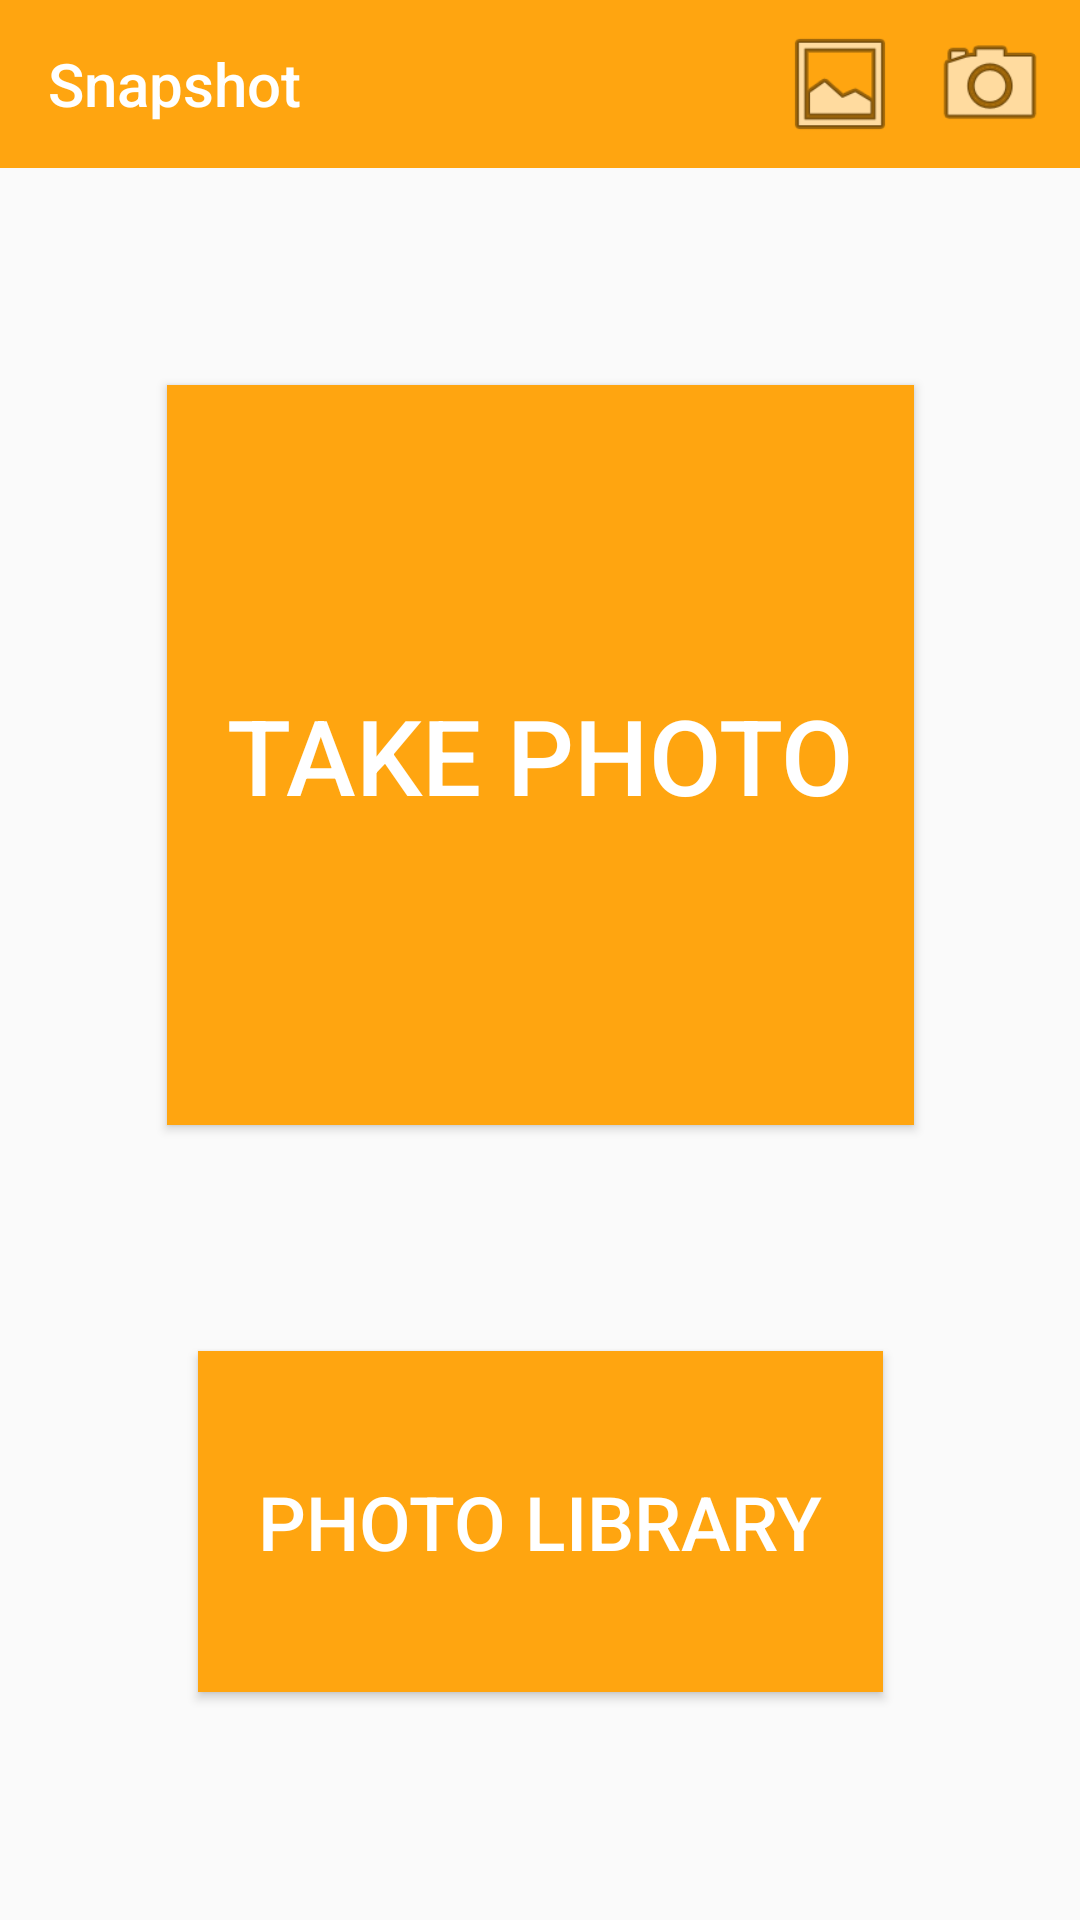

Icon bounding boxes for this 1080px x 1920px phone screenshot, format (x1, y1, x2, y2):
camera: (944, 45, 1036, 119)
gallery: (795, 39, 885, 129)
